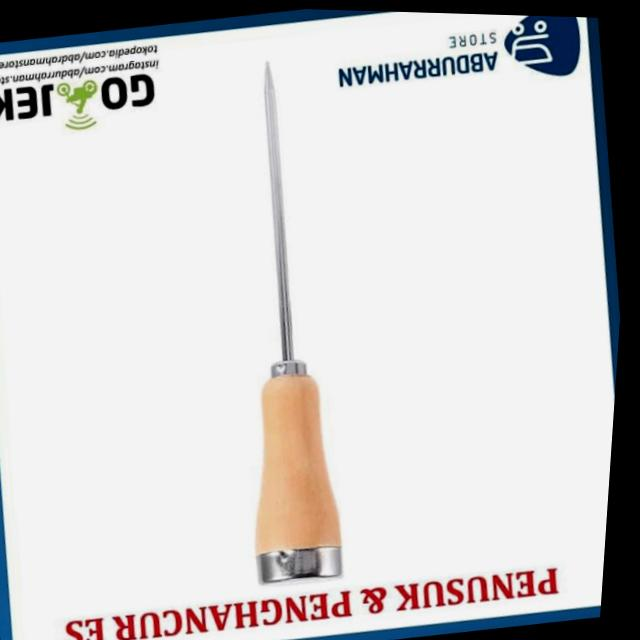ice pick: (0, 0, 640, 640), (191, 51, 380, 588)
